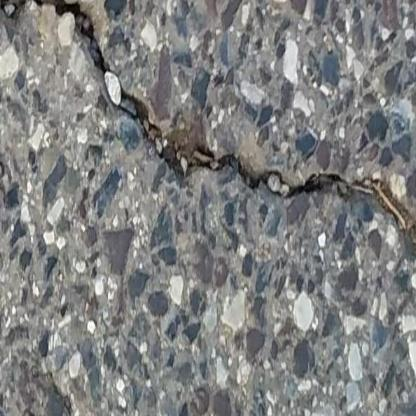Cracks: (0, 0, 416, 277)
